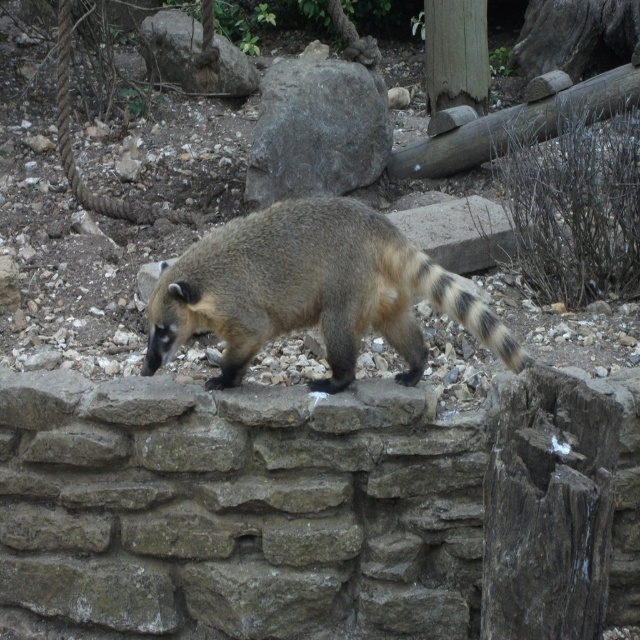Raccoon: (140, 194, 538, 394)
